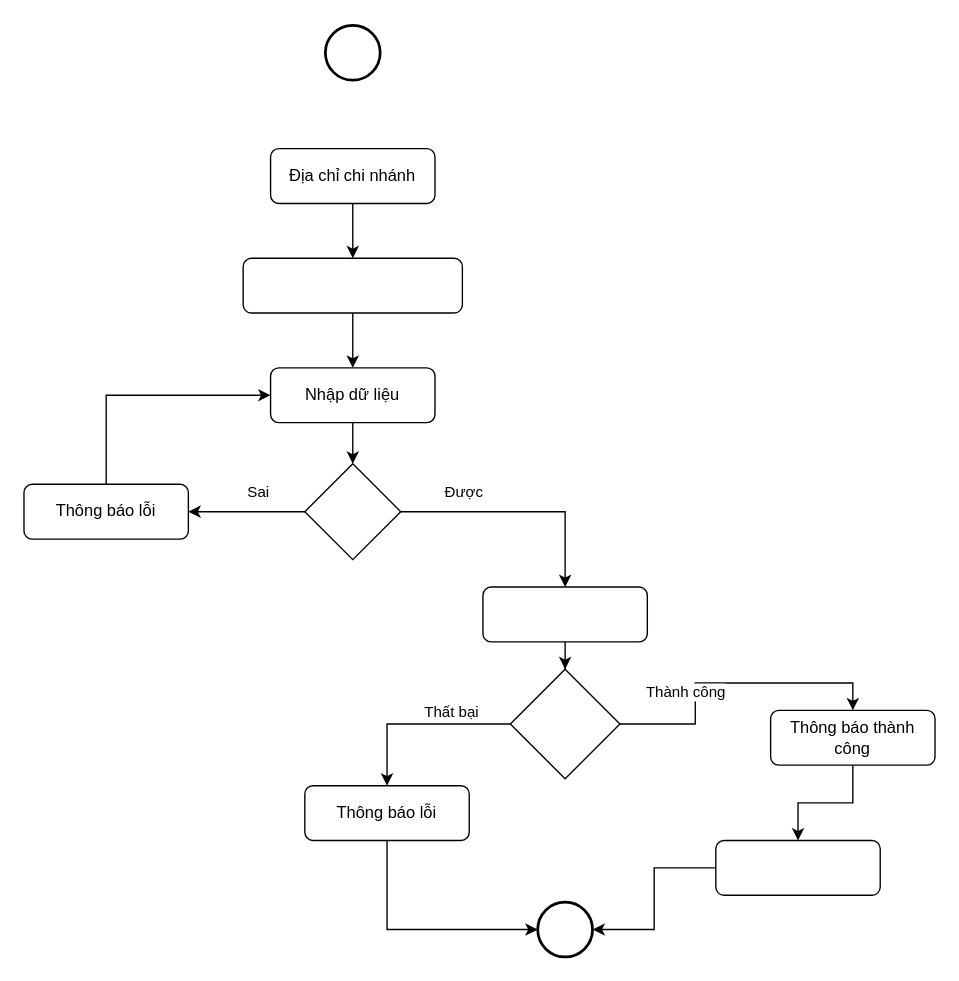
Some shapes in this 959 by 981 pixel diagram are drawn without their labels. Here are the shapes that lost their labels. From the top down, the centre of each, then its label:
(x=352, y=285): Thêm / Cập nhật
(x=564, y=614): Lưu dữ liệu
(x=797, y=867): Lấy dữ liệu mới
